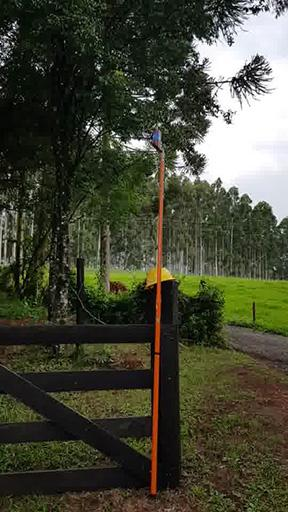Detector_Tensao_Contato: (150, 124, 164, 152)
Vara_Manobra: (149, 151, 165, 496)
